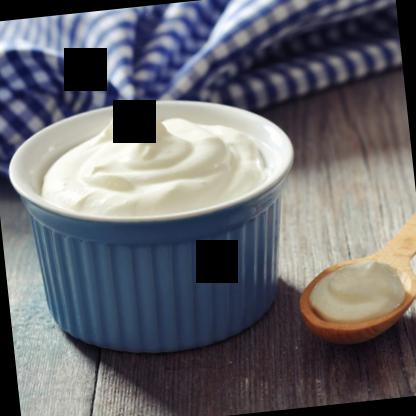yogurt: (28, 102, 282, 233)
